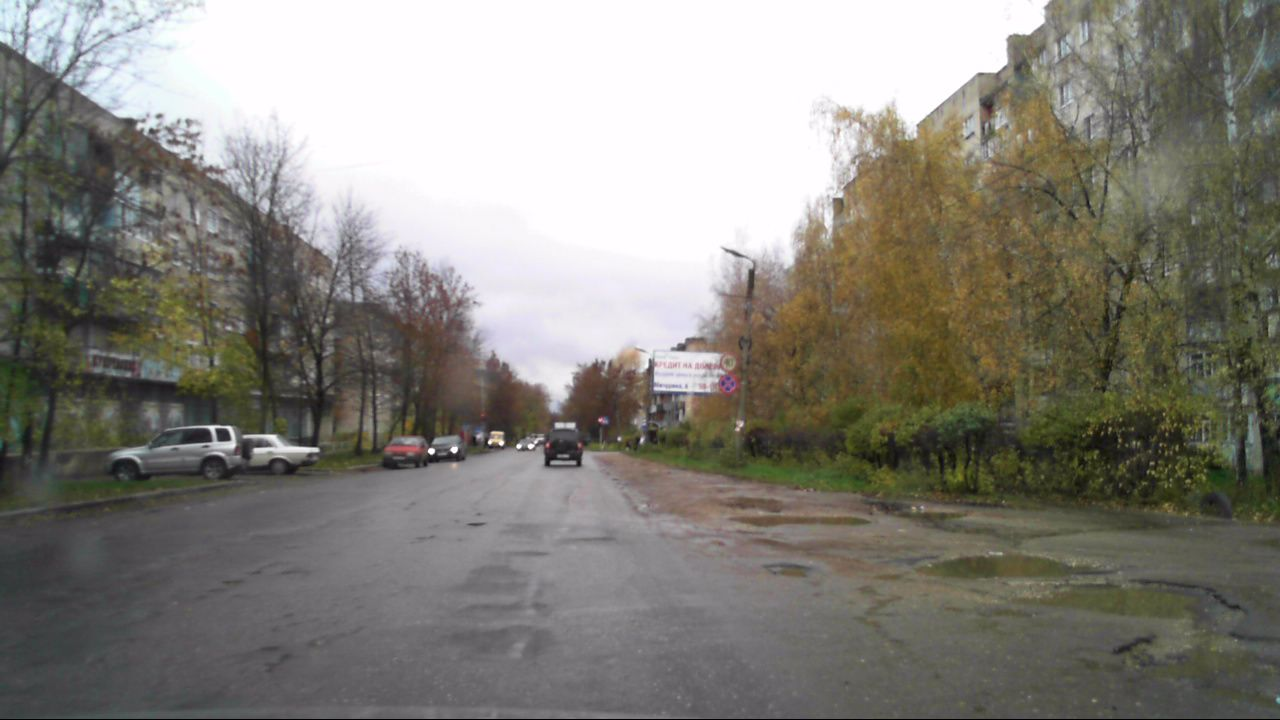No Parking: (716, 372, 739, 394)
speed_warning_40: (718, 353, 739, 372)
